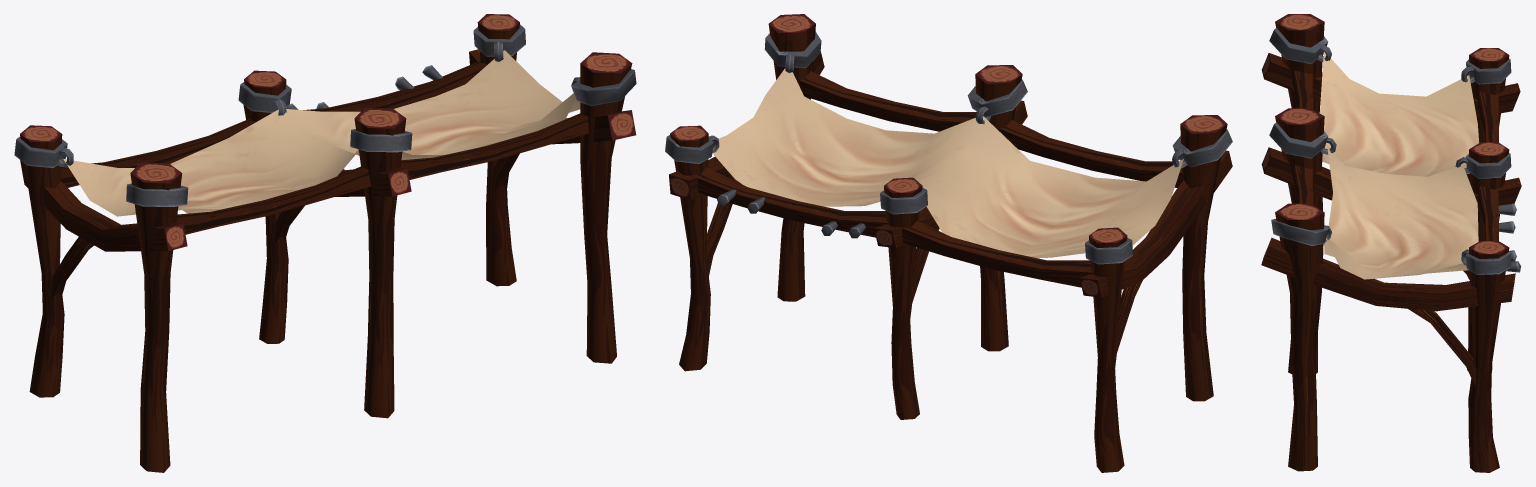
Rendered from SM_PROP_market_v04_01.glb.
The picture shows the model from 3 angles, left to right: view 1: azimuth 30°, elevation 25°; view 2: azimuth 150°, elevation 25°; view 3: azimuth 270°, elevation 25°; orthographic projection. The views are drawn at different scales.
Parts seen in each view (by area): view 1: SM_PROP_market_v04_01_EXPORT; view 2: SM_PROP_market_v04_01_EXPORT; view 3: SM_PROP_market_v04_01_EXPORT.
Part boxes in pixels (x1,y1,x2,y2): SM_PROP_market_v04_01_EXPORT: (14,14,636,472); SM_PROP_market_v04_01_EXPORT: (665,14,1232,472); SM_PROP_market_v04_01_EXPORT: (1261,14,1521,472).
Bounding box in the file's own units: 6.68 × 3.78 × 3.49.
4 materials, 4 textured.
